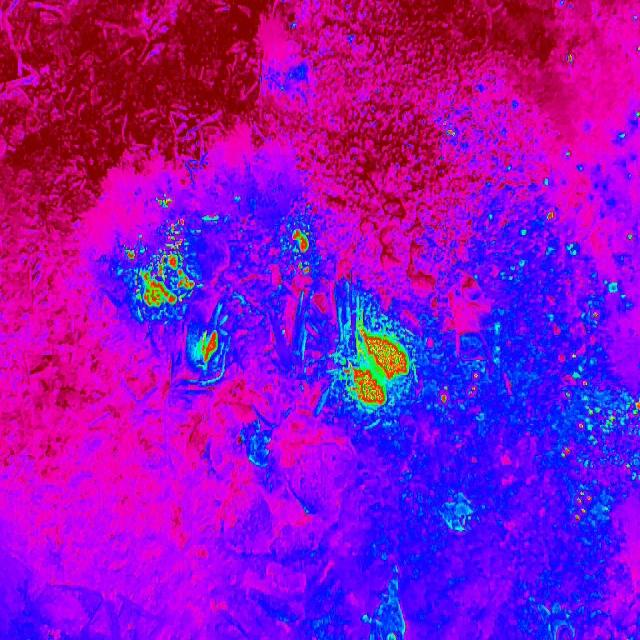fire: (538, 203, 640, 532), (338, 320, 414, 415), (124, 222, 198, 317), (437, 369, 482, 408), (195, 327, 223, 372), (290, 225, 312, 259), (152, 192, 178, 212), (442, 121, 457, 141)
